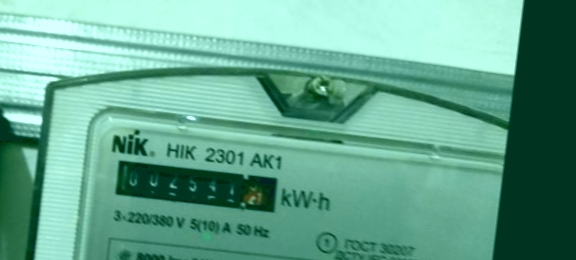0: (124, 164, 139, 187), (145, 165, 159, 187)
1: (223, 175, 237, 197)
2: (165, 168, 179, 190)
4: (204, 172, 219, 194)
5: (184, 170, 198, 193)
6: (244, 190, 257, 206)
screen: (102, 147, 289, 223)
